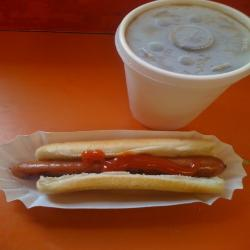hotdog: (14, 127, 238, 204)
